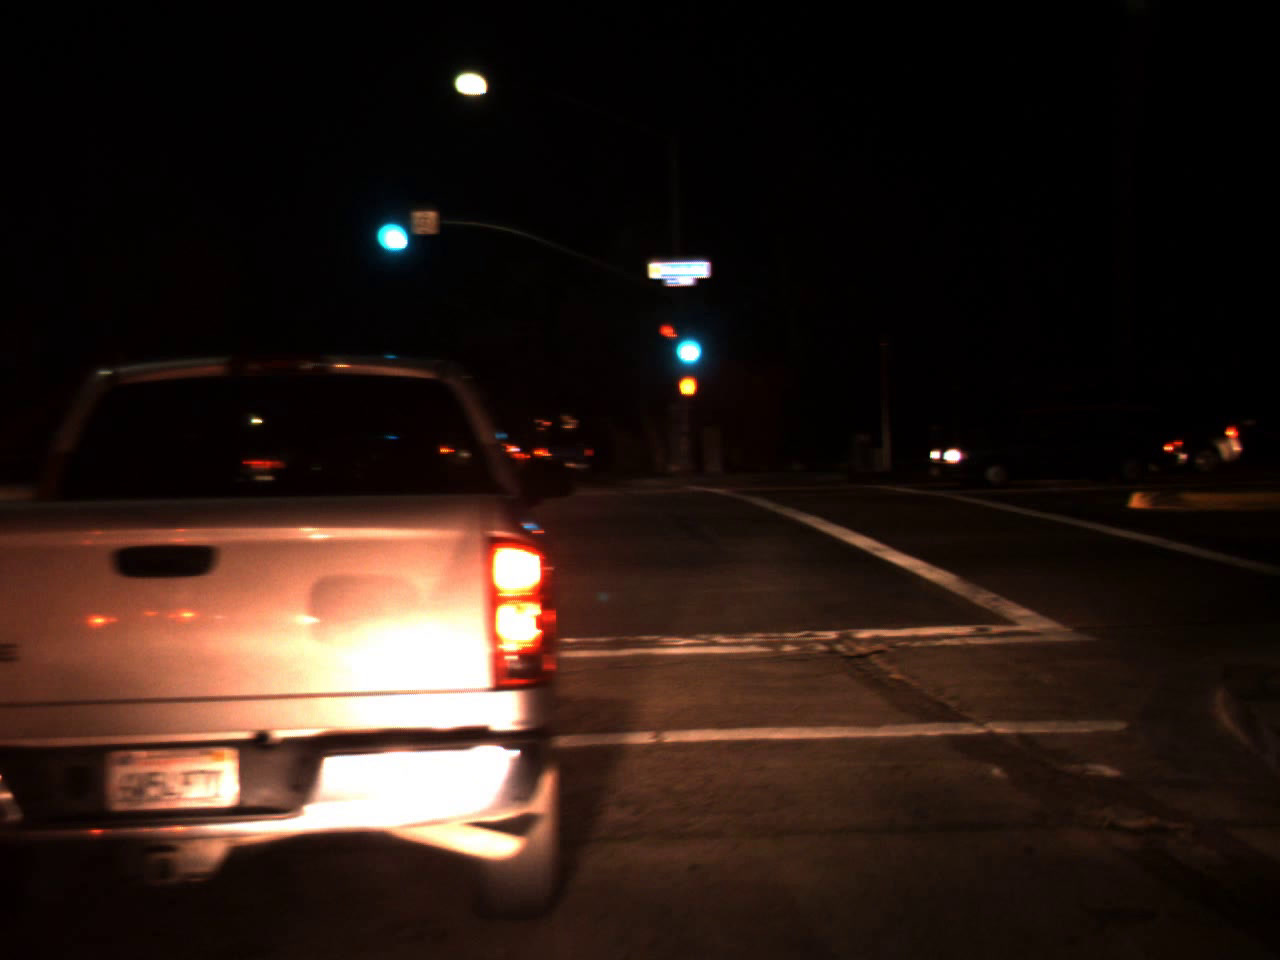go: (363, 187, 415, 262), (665, 308, 708, 374)
